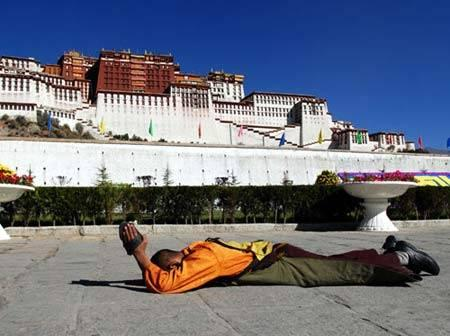fall: (117, 222, 435, 293)
